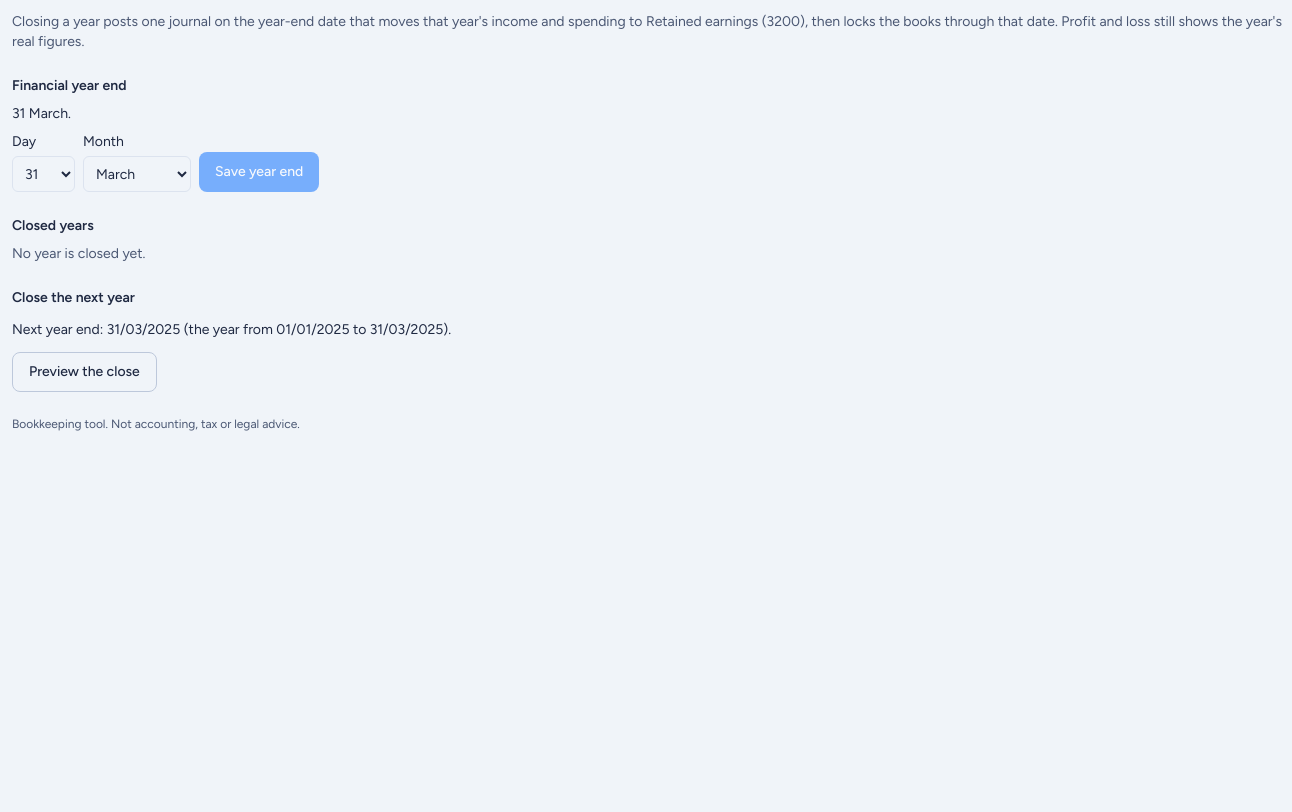
Test: Year end: closing a year › preview table (the README example), the result, and the lock confirmation before Close year
What coordinates should you click on to do the following:
click the button "Preview the close"
I would click on:
 (84, 372)
Its box is [12, 352, 157, 392].
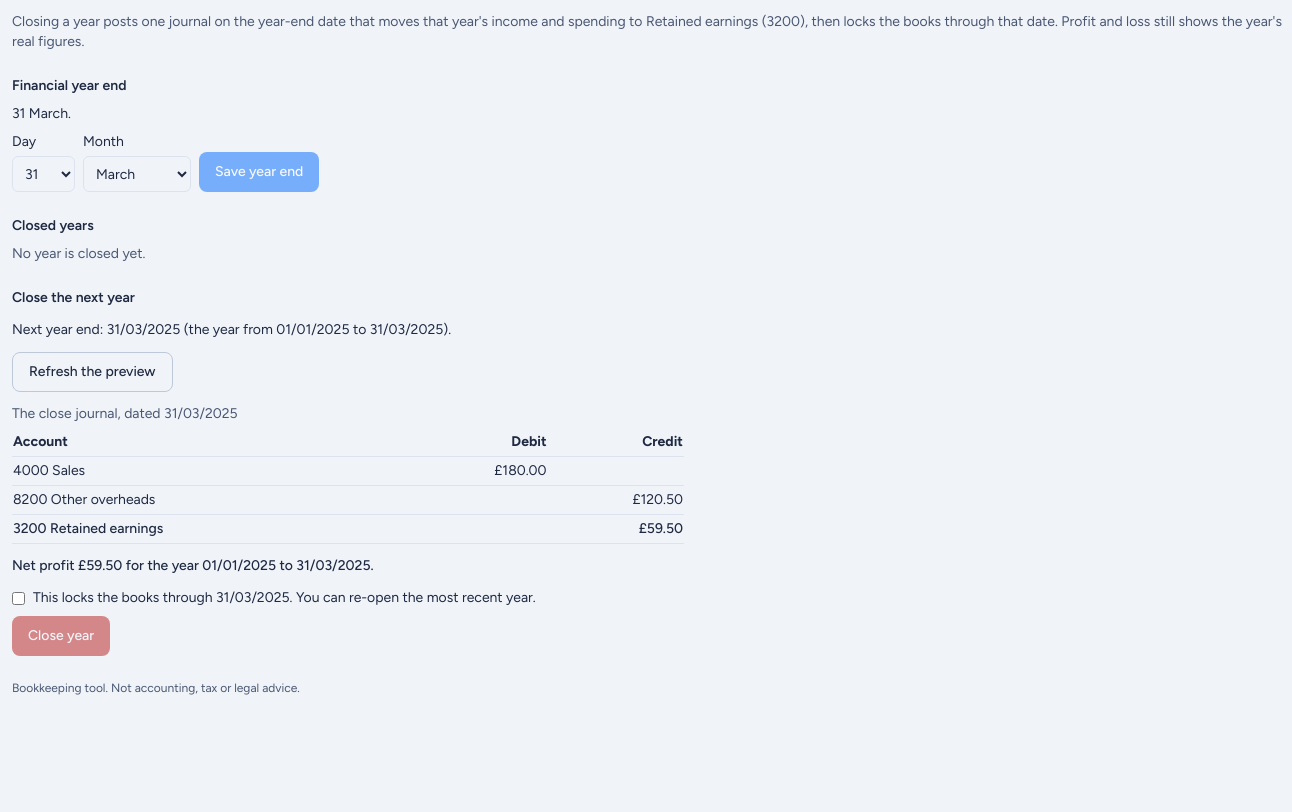
Check: the rows read "AccountDebitCredit", "4000 Sales£180.00", "8200 Other overheads£120.50", "3200 Retained earnings£59.50", in this order, box [12, 428, 684, 456]; [12, 456, 684, 486]; [12, 486, 684, 514]; [12, 514, 684, 544]
Check: the text with test id "ye-result" reads "Net profit £59.50 for the year 01/01/2025 to 31/03/2025.", box [12, 557, 374, 574]
Check: the button "Close year" is disabled, box [12, 616, 110, 656]
What coordinates should you click on to do the following:
click the checkbox labelled "This locks the books through 31/03/2025. You can re-open the most recent year."
I would click on:
 (18, 598)
Its box is [12, 592, 25, 604].
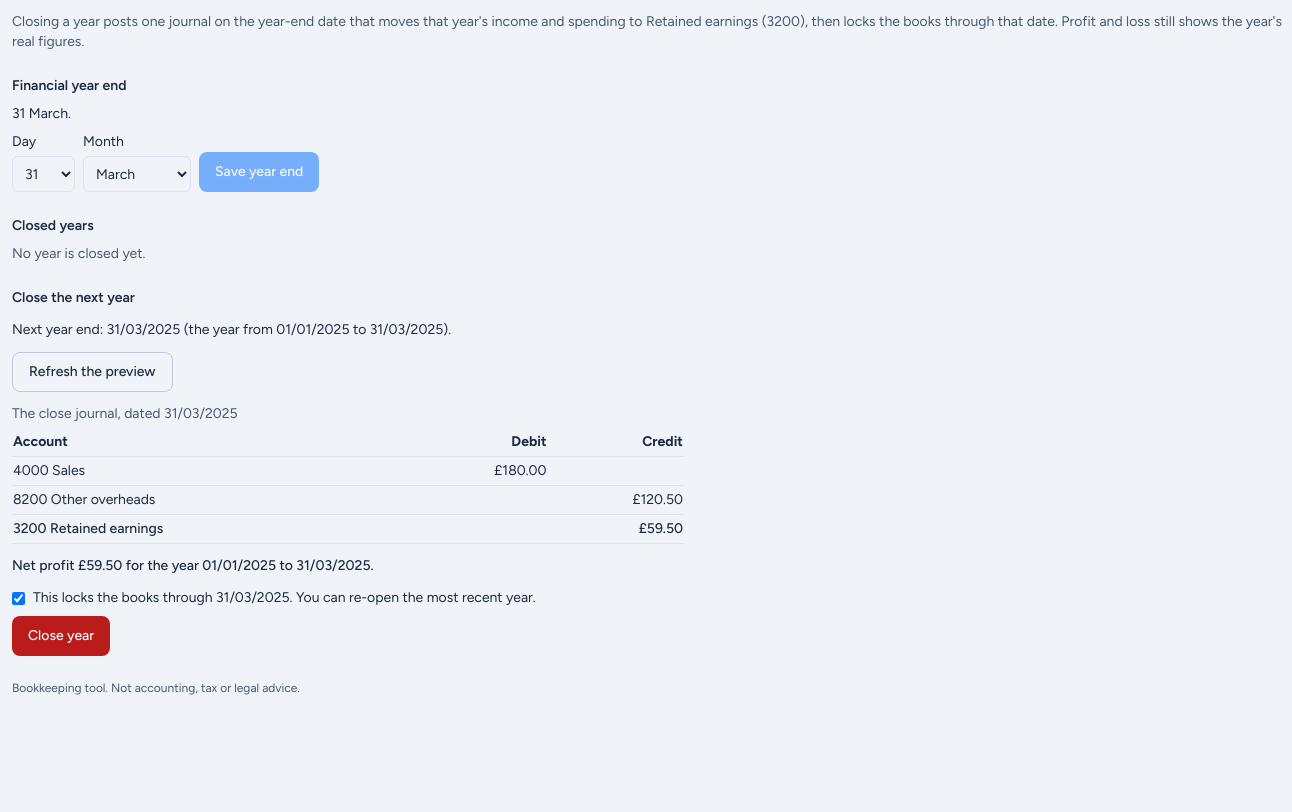
What coordinates should you click on to do the following:
click the button "Close year"
I would click on:
 (61, 636)
Its box is [12, 616, 110, 656].
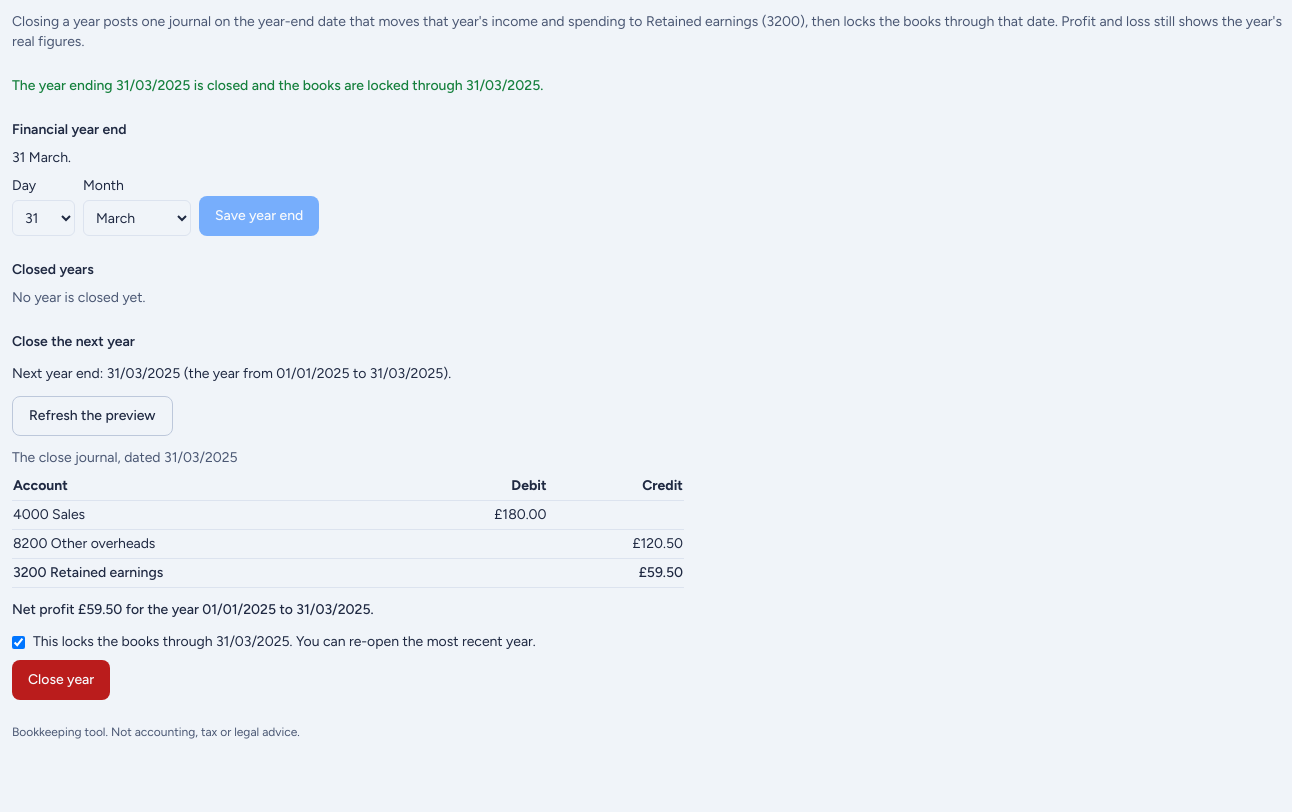
Check: the text "The year ending 31/03/2025 is closed and the books are locked through 31/03/2025." is shown, box [12, 77, 543, 94]
